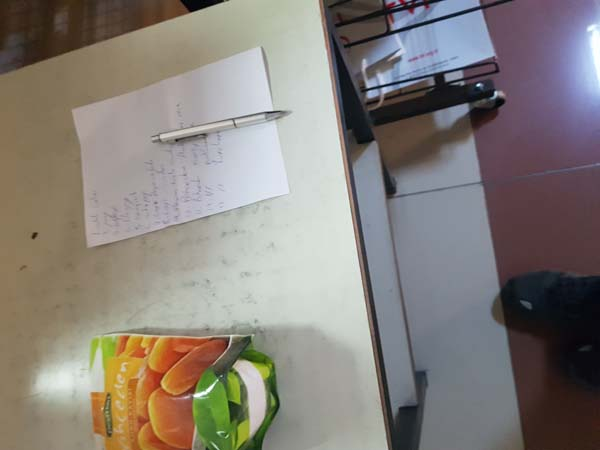bahcedenkurukayisi: (81, 323, 282, 450)
